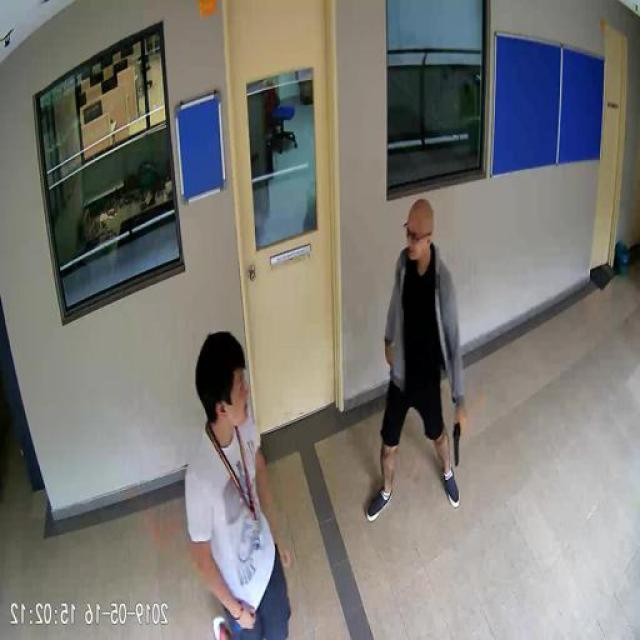weapon: (452, 412, 468, 467)
